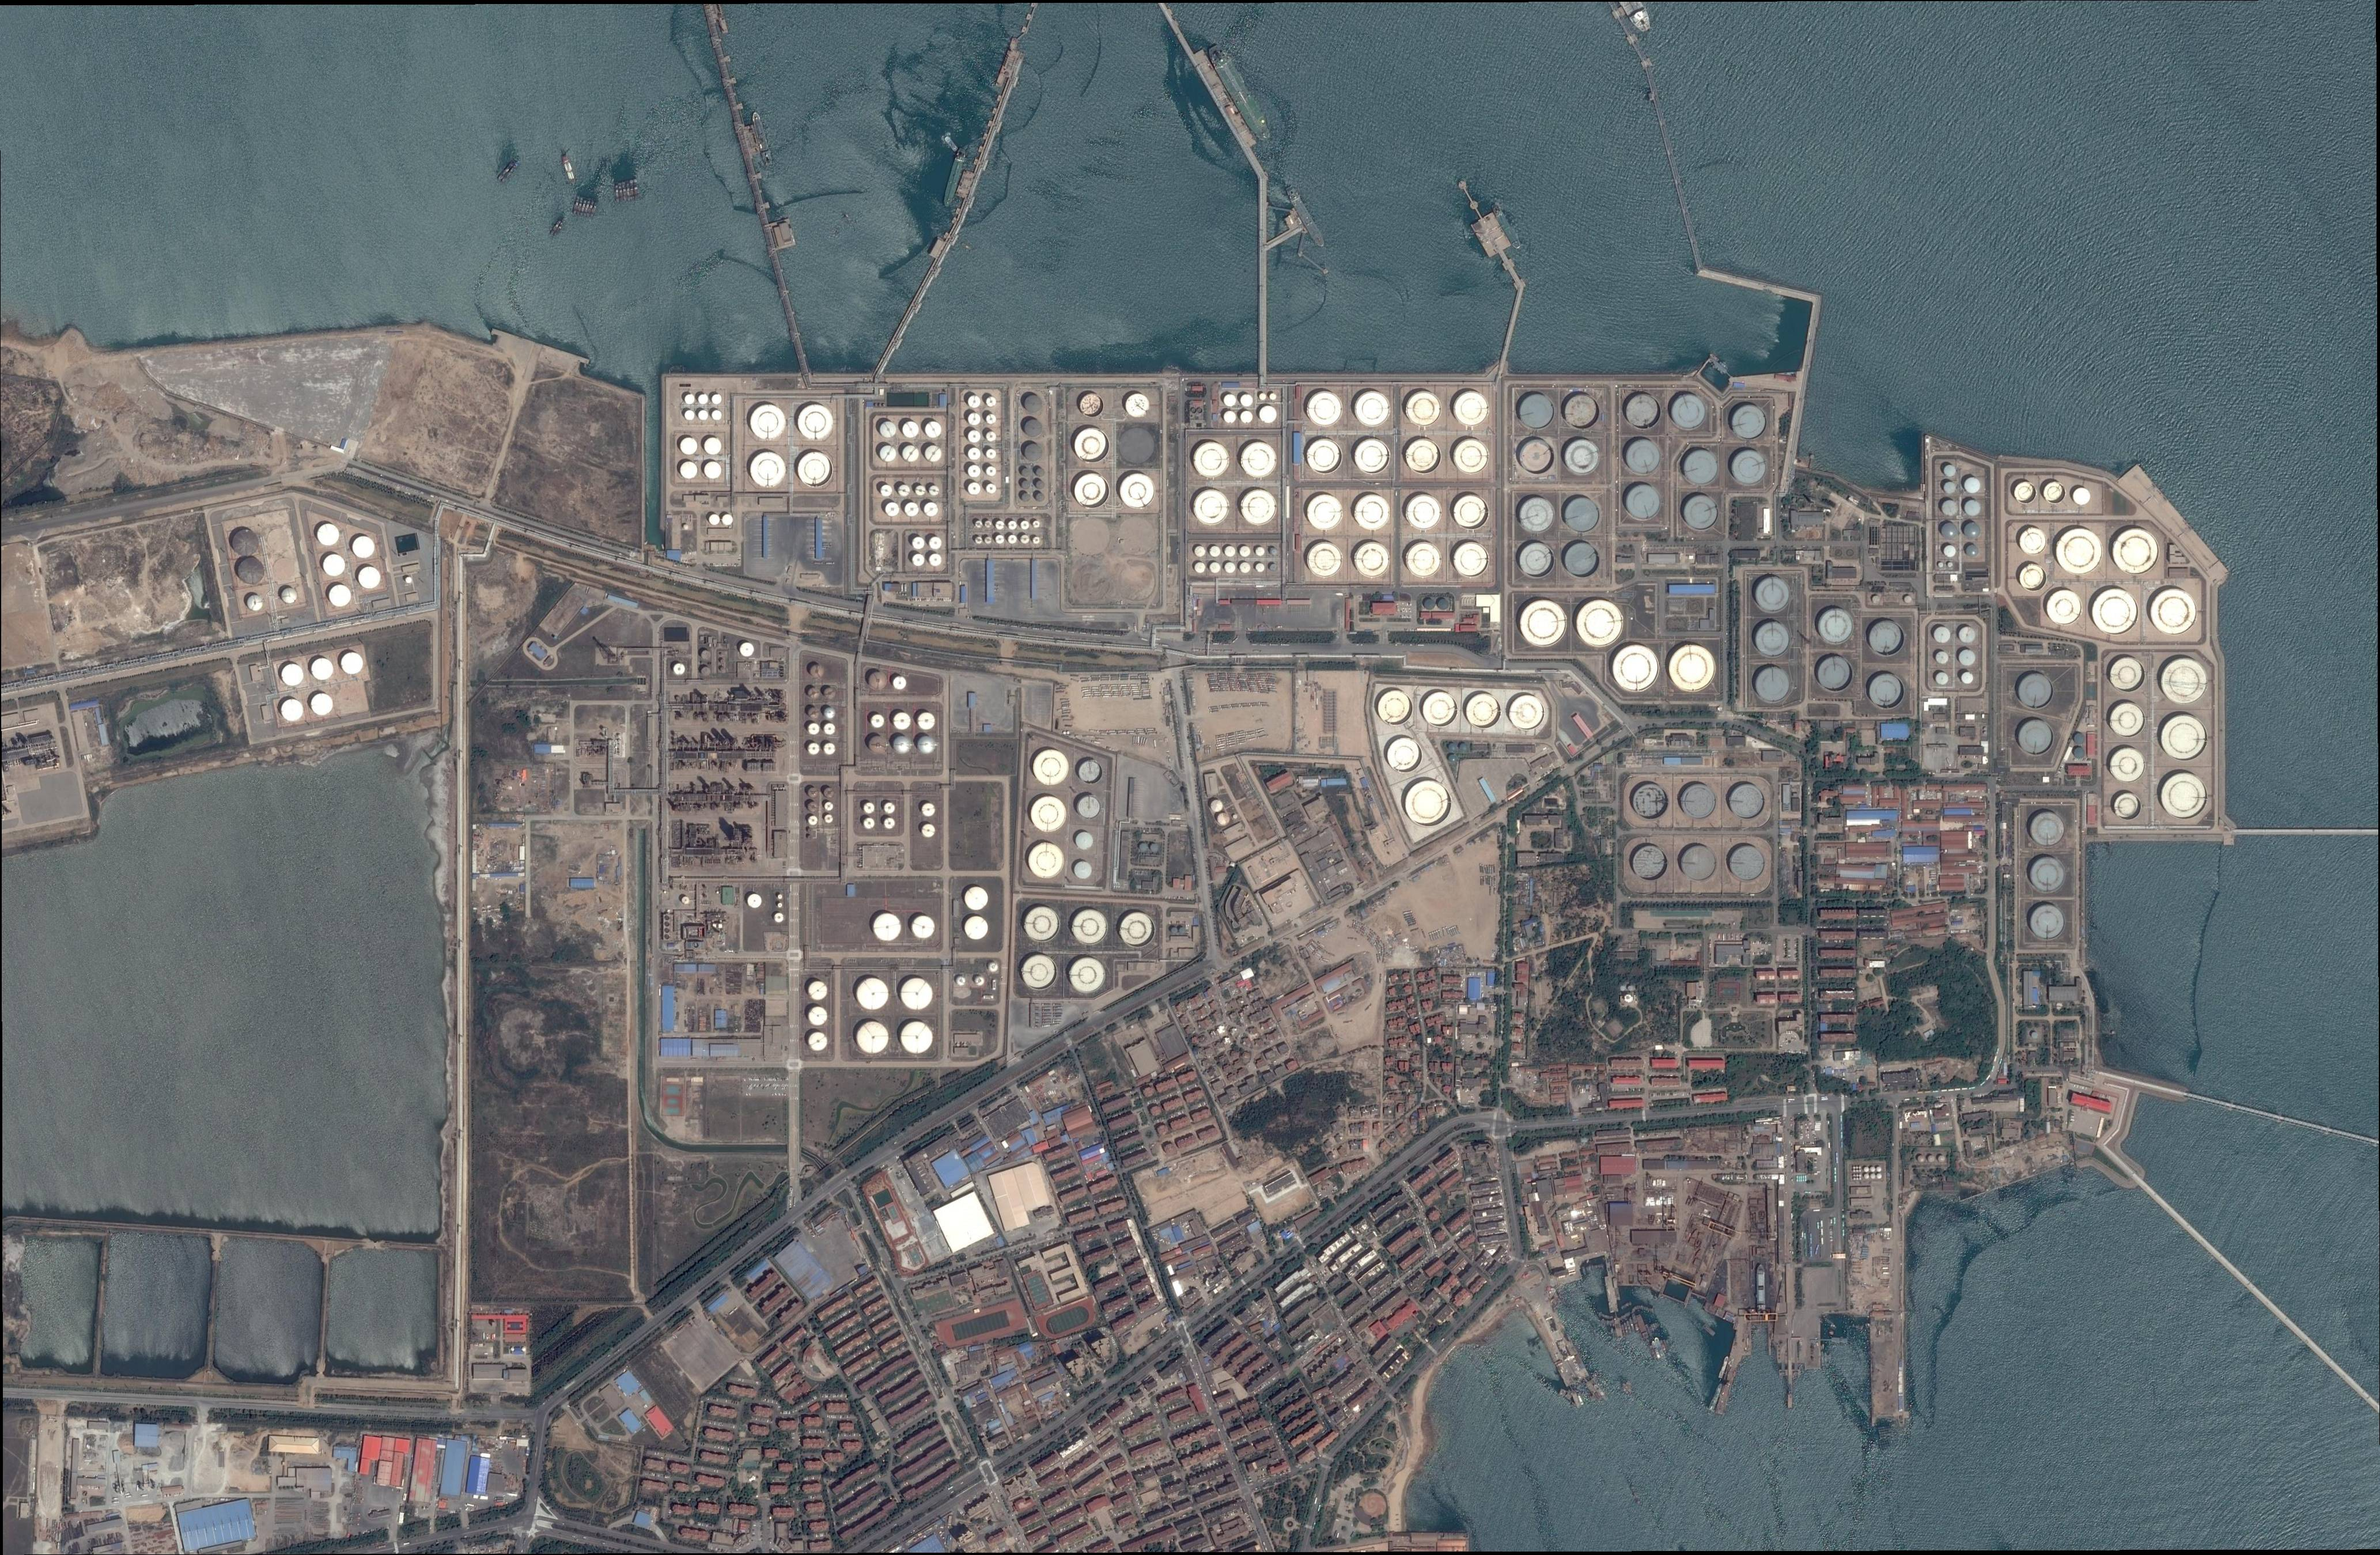basketball court: (907, 1246, 923, 1267), (1025, 1274, 1043, 1288), (1032, 1293, 1049, 1305), (1030, 1284, 1046, 1296)
bridge: (860, 614, 869, 639), (789, 1142, 800, 1159), (866, 600, 874, 613), (1502, 659, 1506, 670)
ground track field: (1034, 1296, 1103, 1345)
harbor: (1527, 1303, 1589, 1387), (1301, 253, 1329, 276)
ship: (1206, 43, 1275, 144), (1193, 49, 1258, 149), (1285, 186, 1327, 248), (942, 148, 968, 208), (1492, 203, 1521, 250), (751, 111, 774, 167), (1756, 1263, 1766, 1312), (498, 158, 519, 180), (501, 161, 520, 184), (562, 156, 576, 186), (1709, 1383, 1723, 1411), (1636, 1316, 1650, 1340), (1653, 1336, 1665, 1359), (1719, 1355, 1729, 1378), (944, 135, 958, 151), (1594, 1385, 1608, 1401), (1702, 1324, 1716, 1336), (572, 196, 581, 215), (576, 196, 585, 215), (579, 198, 588, 217), (583, 198, 592, 217), (550, 220, 560, 236), (553, 222, 564, 238), (1632, 1314, 1641, 1331), (586, 200, 595, 217), (590, 203, 598, 219), (618, 182, 624, 201), (1709, 352, 1719, 363), (633, 179, 638, 200), (630, 180, 635, 200), (1629, 1319, 1636, 1331), (626, 180, 630, 201), (623, 182, 626, 201), (1719, 361, 1728, 368), (616, 186, 619, 203)
soccer ball field: (1051, 1307, 1086, 1335)
storage tank: (2149, 588, 2196, 637), (1669, 644, 1716, 692), (2113, 529, 2160, 576), (1405, 781, 1452, 828), (1613, 646, 1660, 692), (1520, 600, 1566, 647), (2161, 659, 2208, 705), (2161, 715, 2207, 762), (2161, 772, 2207, 819), (1577, 600, 1622, 647), (2094, 590, 2139, 635), (2057, 529, 2102, 574), (1867, 673, 1905, 710), (1518, 392, 1554, 430), (1683, 448, 1719, 486), (1029, 842, 1065, 878), (1022, 953, 1058, 989), (749, 451, 786, 488), (1454, 495, 1490, 531), (1353, 495, 1389, 531), (1306, 439, 1343, 476), (1240, 443, 1277, 479), (1240, 489, 1277, 526), (1681, 845, 1717, 882), (1683, 495, 1719, 531), (1466, 692, 1502, 729), (1625, 484, 1662, 521), (1625, 394, 1662, 430), (1731, 404, 1768, 441), (1032, 797, 1067, 833), (1070, 956, 1105, 993), (1074, 429, 1110, 463), (1074, 474, 1110, 508), (798, 453, 834, 488), (798, 404, 834, 439), (2019, 673, 2054, 710), (2019, 720, 2054, 757), (1870, 621, 1905, 658), (1818, 656, 1853, 692), (1193, 443, 1230, 477), (1386, 739, 1422, 774), (1308, 541, 1343, 578), (1355, 541, 1389, 578), (1377, 691, 1414, 725), (1422, 692, 1459, 727), (1407, 541, 1442, 578), (1455, 541, 1490, 578), (1407, 495, 1443, 529), (1407, 439, 1442, 476), (1308, 495, 1343, 531), (1355, 439, 1389, 476), (1193, 489, 1228, 526), (1355, 390, 1389, 427), (1634, 783, 1669, 819), (1729, 845, 1764, 882), (1756, 576, 1790, 613), (1509, 694, 1544, 731), (1520, 541, 1554, 578), (1565, 541, 1599, 578), (1565, 394, 1599, 430), (1671, 394, 1705, 430), (1025, 908, 1060, 942), (1121, 913, 1155, 948), (1121, 474, 1155, 508), (1034, 750, 1069, 784), (751, 404, 786, 439), (2109, 658, 2144, 692), (2109, 703, 2144, 738), (2111, 748, 2146, 783), (2030, 812, 2064, 847), (1820, 609, 1854, 644), (1756, 623, 1790, 658), (1308, 392, 1343, 427), (1407, 392, 1442, 427), (1454, 392, 1488, 427), (1681, 784, 1716, 819), (1634, 847, 1669, 882), (1520, 498, 1554, 533), (1565, 498, 1599, 533), (1565, 439, 1599, 474), (1072, 911, 1108, 944), (2049, 590, 2082, 627), (1756, 666, 1788, 703), (1731, 783, 1764, 819), (1627, 439, 1660, 476), (1733, 449, 1766, 486), (900, 1020, 933, 1055), (2031, 857, 2064, 892), (2030, 906, 2064, 939), (1455, 439, 1488, 474), (1520, 441, 1554, 474), (900, 977, 933, 1010), (857, 1022, 888, 1055), (857, 979, 888, 1010), (2115, 793, 2142, 821), (2019, 528, 2047, 555), (873, 915, 902, 941), (238, 557, 264, 585), (2021, 564, 2047, 592), (232, 529, 258, 555), (1077, 760, 1103, 784), (964, 887, 989, 911), (1077, 795, 1102, 819), (1126, 394, 1150, 418), (964, 916, 989, 939), (1081, 394, 1105, 417), (340, 653, 364, 675), (357, 568, 382, 590), (317, 522, 340, 545), (323, 554, 345, 576), (330, 585, 352, 607), (281, 663, 304, 686), (312, 658, 335, 680), (281, 699, 304, 722), (352, 536, 375, 559), (2014, 482, 2037, 505), (311, 694, 333, 715), (2043, 482, 2066, 503), (869, 672, 888, 691), (1074, 861, 1093, 880), (808, 981, 827, 1000), (808, 1007, 827, 1026), (911, 916, 940, 928), (1023, 444, 1043, 462), (869, 736, 886, 755), (893, 712, 911, 731), (893, 736, 911, 755), (918, 736, 935, 755), (680, 462, 699, 479), (810, 1033, 827, 1052), (918, 713, 935, 731), (1076, 831, 1093, 849), (704, 437, 722, 455), (704, 462, 722, 479), (680, 437, 697, 455), (879, 444, 897, 462), (902, 422, 919, 439), (879, 422, 897, 439), (1259, 406, 1277, 423), (2073, 488, 2090, 505), (1025, 418, 1041, 437), (1025, 396, 1041, 413), (246, 595, 264, 611), (902, 446, 919, 462), (925, 446, 942, 462), (925, 422, 942, 437), (1934, 627, 1952, 642), (1958, 649, 1976, 665), (1941, 522, 1958, 538), (1965, 498, 1981, 515), (1965, 477, 1981, 495), (281, 588, 297, 604), (923, 502, 938, 517), (1960, 627, 1976, 642), (1965, 522, 1981, 538), (1943, 498, 1957, 515), (871, 713, 885, 729), (739, 642, 755, 656), (906, 502, 919, 517), (893, 677, 907, 691), (921, 804, 935, 817), (928, 536, 942, 550), (810, 665, 824, 679), (885, 502, 899, 515), (968, 448, 982, 462), (748, 894, 762, 908), (923, 823, 935, 838), (912, 536, 925, 550), (930, 554, 942, 568), (968, 482, 982, 495), (1223, 394, 1237, 406), (1240, 394, 1252, 408), (824, 722, 836, 736), (968, 465, 980, 479), (1223, 411, 1237, 423), (1240, 411, 1254, 423), (1936, 651, 1948, 665), (1936, 672, 1948, 686), (1218, 812, 1230, 826), (883, 802, 895, 814), (883, 817, 895, 830), (912, 554, 925, 566), (722, 514, 734, 526), (673, 663, 685, 675), (824, 743, 836, 755), (808, 687, 821, 699), (824, 687, 836, 699), (808, 706, 821, 718), (824, 706, 836, 718), (807, 743, 819, 755), (881, 484, 893, 496), (899, 484, 911, 496), (968, 396, 980, 408), (968, 413, 980, 425), (968, 430, 980, 443), (985, 430, 997, 443), (2073, 746, 2085, 758), (1962, 672, 1974, 684), (1424, 599, 1436, 611), (1211, 800, 1223, 812), (1209, 545, 1221, 557), (1209, 562, 1221, 574), (1945, 545, 1957, 557), (1967, 545, 1979, 557), (1945, 465, 1957, 477), (1945, 482, 1957, 495), (808, 722, 819, 736), (709, 514, 720, 526), (685, 410, 696, 422), (824, 788, 836, 798), (864, 802, 874, 814), (864, 817, 874, 830), (2075, 732, 2085, 745), (1195, 545, 1206, 557), (1225, 545, 1235, 557), (1195, 562, 1206, 574), (1225, 562, 1235, 574), (1239, 547, 1251, 557), (1008, 535, 1018, 545), (1020, 535, 1030, 545), (956, 975, 966, 986), (1150, 843, 1161, 854), (975, 975, 985, 986), (989, 961, 999, 972), (987, 467, 997, 477), (701, 649, 711, 659), (701, 666, 711, 677), (699, 410, 709, 420), (685, 394, 696, 404), (699, 394, 709, 404), (711, 394, 722, 404), (808, 786, 819, 797), (928, 486, 938, 496), (987, 396, 997, 406), (987, 415, 997, 425), (808, 816, 819, 826), (1438, 599, 1448, 609), (1240, 562, 1251, 573), (914, 486, 926, 495), (987, 448, 996, 460), (1036, 467, 1044, 477), (996, 521, 1006, 529), (996, 535, 1004, 545), (1008, 521, 1018, 529), (1020, 521, 1030, 529), (1140, 842, 1148, 852), (987, 482, 996, 493), (713, 410, 722, 420), (808, 802, 819, 810), (824, 814, 834, 823), (775, 913, 784, 923), (1448, 743, 1457, 753), (1461, 743, 1469, 753), (1256, 547, 1265, 557), (1256, 562, 1265, 573), (1036, 481, 1044, 489), (1022, 481, 1030, 489), (1032, 536, 1041, 545), (1036, 493, 1044, 502), (826, 802, 834, 810), (1872, 595, 1880, 604), (1927, 1154, 1936, 1163), (1448, 755, 1457, 764), (1270, 562, 1278, 571), (975, 536, 984, 543), (985, 536, 992, 545), (1032, 521, 1041, 528), (1023, 493, 1030, 502), (1259, 392, 1266, 401), (1270, 392, 1277, 401), (406, 576, 413, 585), (682, 897, 690, 904), (2031, 1031, 2038, 1040), (1270, 548, 1278, 555), (1022, 469, 1029, 476), (985, 521, 992, 528), (1905, 595, 1912, 602), (1919, 1156, 1926, 1163), (1939, 1156, 1946, 1163), (1863, 1166, 1870, 1173), (1863, 1173, 1870, 1180), (1877, 1173, 1882, 1180), (1870, 1166, 1875, 1173), (1620, 986, 1627, 991), (1629, 986, 1636, 991), (1877, 1166, 1882, 1171), (720, 666, 725, 672), (1870, 1173, 1875, 1178), (683, 524, 689, 529), (1939, 562, 1945, 568), (1948, 562, 1953, 568), (720, 659, 725, 663), (779, 894, 782, 899), (779, 902, 782, 908)
tennis court: (885, 1201, 902, 1225)
